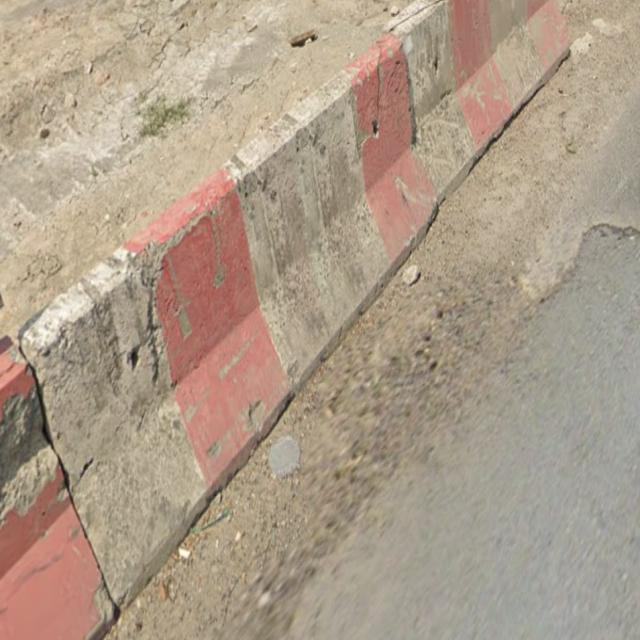fallen_object: (183, 12, 486, 393), (13, 176, 290, 581), (0, 331, 135, 640), (376, 0, 588, 165)
